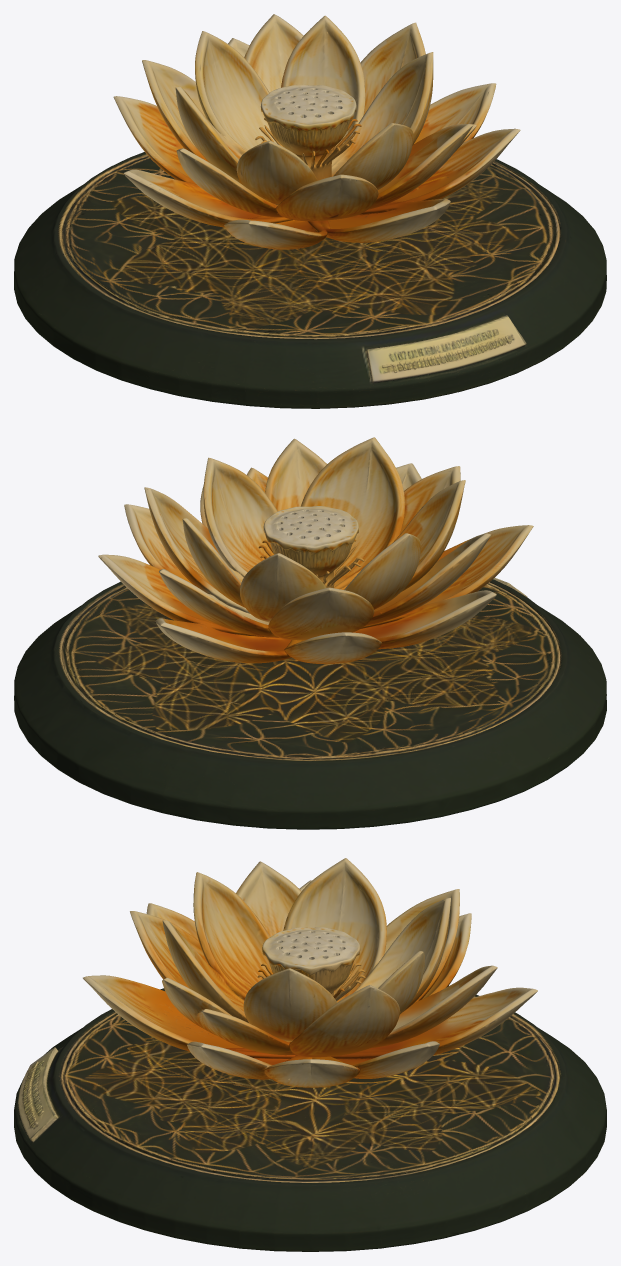
File: grand-final.glb
3 views of the same model, one above another, from view 1: azimuth 30°, elevation 25°; view 2: azimuth 150°, elevation 25°; view 3: azimuth 270°, elevation 25° (orthographic).
Parts seen in each view (by area): view 1: material; view 2: material; view 3: material.
Boxes of the visible parts, x1,y1,x2,y2 form: material: (14,14,606,408); material: (14,437,606,829); material: (14,858,606,1251).
Bounding box in the file's own units: 1.12 × 0.4416 × 1.12.
Materials: 1 (1 with a texture image).
